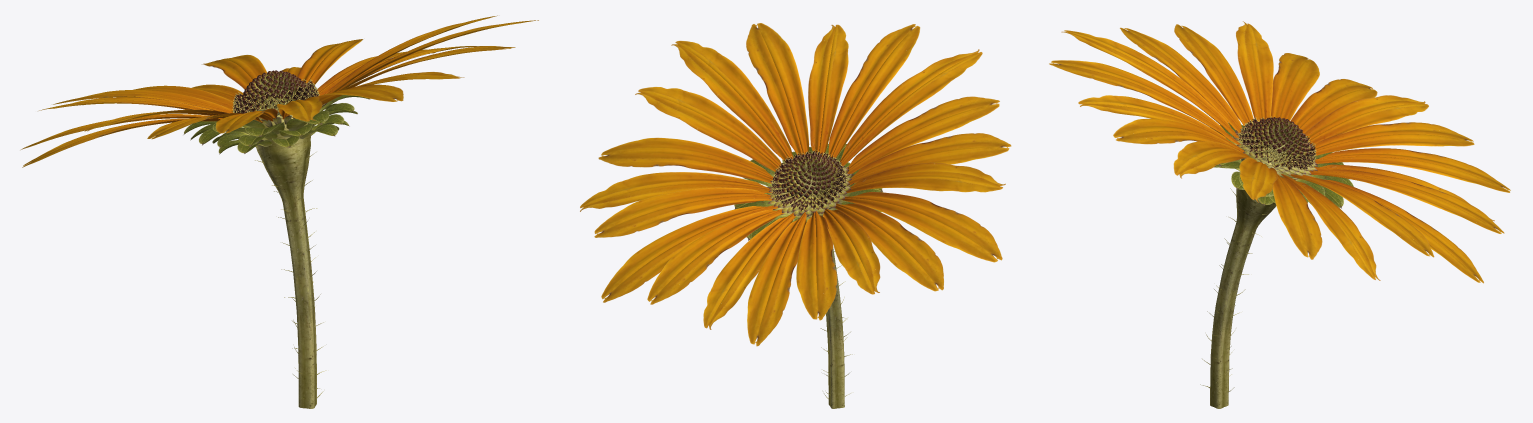
File: rudbeckia-hirta.glb
The picture shows the model from 3 angles, left to right: view 1: azimuth 30°, elevation 25°; view 2: azimuth 150°, elevation 25°; view 3: azimuth 270°, elevation 25°; orthographic projection. The views are drawn at different scales.
Visible parts, largest first — view 1: patal_petal_leaf_02_0, hairs_stonek_0, patal_petal_leaf_01_0, zakrov_petal_zakrov_leaf_02_0, tube_florets_kalisek_flower_0, pollen_pollen_0; view 2: patal_petal_leaf_02_0, patal_petal_leaf_01_0, tube_florets_kalisek_flower_0, hairs_stonek_0, zakrov_petal_zakrov_leaf_02_0, zakrov1_petal_zakrov_leaf_01_0, pollen_pollen_0; view 3: patal_petal_leaf_02_0, patal_petal_leaf_01_0, hairs_stonek_0, tube_florets_kalisek_flower_0, zakrov_petal_zakrov_leaf_02_0, pollen_pollen_0, zakrov1_petal_zakrov_leaf_01_0.
Part boxes in pixels (x1,y1,x2,y2): patal_petal_leaf_02_0: [21, 39, 515, 167]; hairs_stonek_0: [255, 89, 326, 408]; patal_petal_leaf_01_0: [39, 15, 538, 131]; zakrov_petal_zakrov_leaf_02_0: [183, 95, 370, 154]; tube_florets_kalisek_flower_0: [233, 70, 318, 113]; pollen_pollen_0: [232, 79, 319, 112]; patal_petal_leaf_02_0: [594, 23, 1011, 346]; patal_petal_leaf_01_0: [580, 24, 1005, 329]; tube_florets_kalisek_flower_0: [772, 151, 847, 211]; hairs_stonek_0: [789, 169, 852, 408]; zakrov_petal_zakrov_leaf_02_0: [734, 143, 882, 240]; zakrov1_petal_zakrov_leaf_01_0: [767, 162, 853, 218]; pollen_pollen_0: [771, 149, 847, 211]; patal_petal_leaf_02_0: [1049, 24, 1510, 283]; patal_petal_leaf_01_0: [1061, 21, 1494, 280]; hairs_stonek_0: [1200, 131, 1297, 408]; tube_florets_kalisek_flower_0: [1239, 117, 1315, 170]; zakrov_petal_zakrov_leaf_02_0: [1210, 119, 1353, 208]; pollen_pollen_0: [1237, 116, 1316, 171]; zakrov1_petal_zakrov_leaf_01_0: [1233, 129, 1317, 179].
Bounding box in the file's own units: 0.2177 × 0.1611 × 0.2017.
7 materials, 6 textured.
